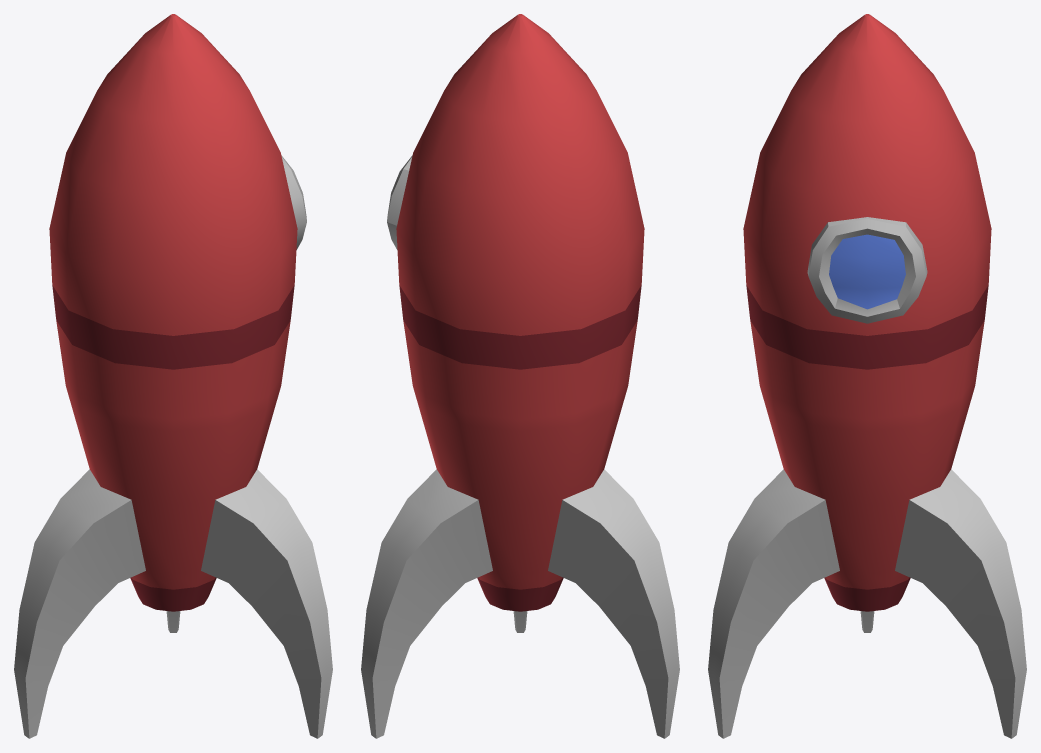
The model's file is Foguete.fbx.
3 views of the same model, side by side, from view 1: azimuth 30°, elevation 25°; view 2: azimuth 150°, elevation 25°; view 3: azimuth 270°, elevation 25° (orthographic).
Visible parts, largest first — view 1: Foguete1.001; view 2: Foguete1.001; view 3: Foguete1.001.
Boxes of the visible parts, x1,y1,x2,y2 form: Foguete1.001: (14, 14, 332, 738); Foguete1.001: (361, 14, 679, 738); Foguete1.001: (708, 14, 1026, 738).
Bounding box in the file's own units: 35.04 × 86.4 × 36.41.
